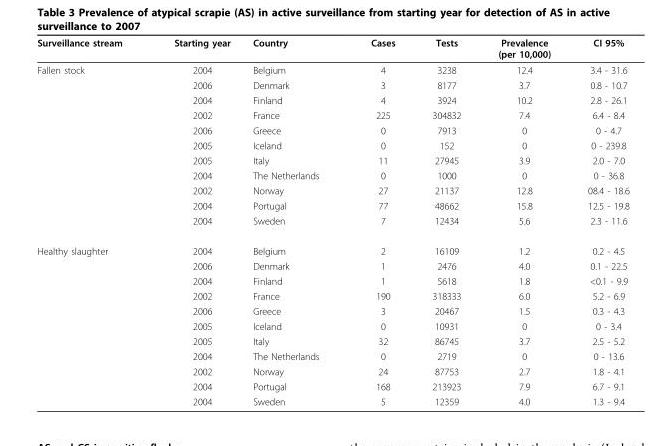table: (36, 36, 628, 406)
table column: (36, 36, 147, 406), (241, 36, 344, 406), (147, 36, 241, 406), (478, 36, 568, 406), (344, 36, 413, 406), (413, 36, 478, 406), (568, 36, 628, 406)
table column header: (36, 36, 628, 61)
table row: (36, 36, 628, 61), (36, 212, 628, 235), (36, 235, 628, 258), (36, 61, 628, 77), (36, 77, 628, 92), (36, 92, 628, 107), (36, 107, 628, 122), (36, 122, 628, 137), (36, 137, 628, 152), (36, 152, 628, 167), (36, 167, 628, 182), (36, 182, 628, 197), (36, 197, 628, 212), (36, 258, 628, 273), (36, 273, 628, 288), (36, 288, 628, 303), (36, 303, 628, 318), (36, 318, 628, 333), (36, 333, 628, 348), (36, 348, 628, 363), (36, 363, 628, 378), (36, 378, 628, 393), (36, 393, 628, 406)
table spanning cell: (36, 61, 147, 235), (36, 235, 147, 406)
